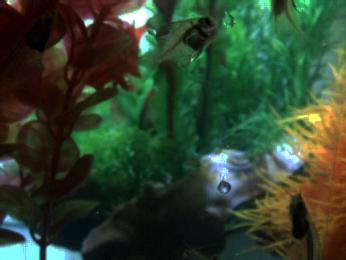X-ray fish: (138, 15, 220, 80), (267, 1, 313, 52)
glassfish: (1, 8, 59, 93), (284, 191, 322, 260)
